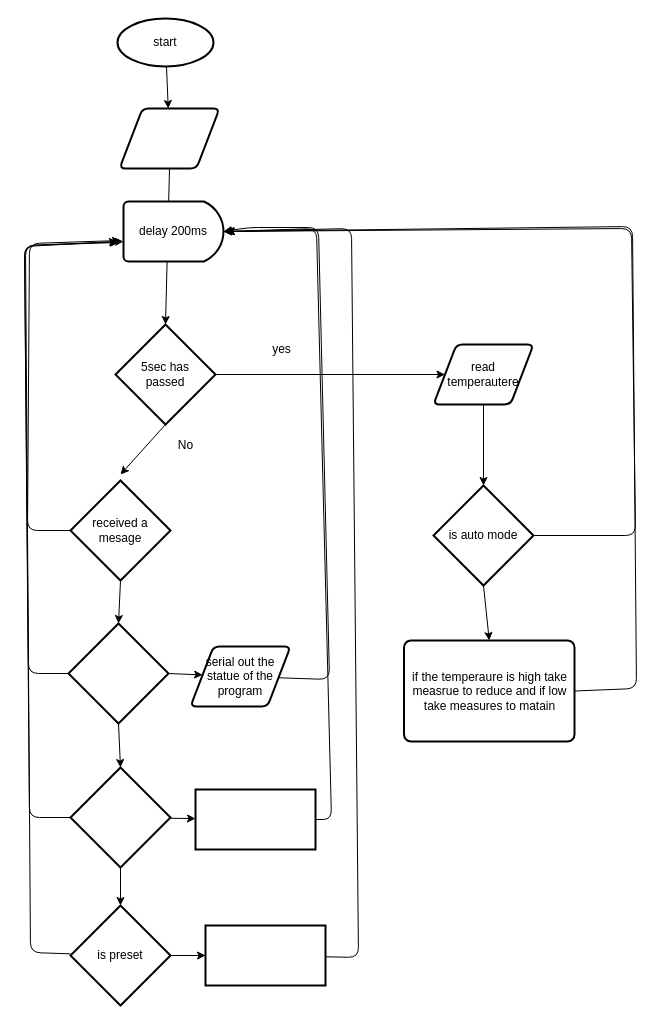
Some shapes in this 662 by 1023 pixel diagram are drawn without their labels. The box of each missing label's shape, as (x1, y1, x2, y2) in pixels:
initialisation: (118, 107, 220, 169)
is get status: (67, 622, 169, 724)
is set mode: (69, 766, 171, 868)
program the preset temperature: (204, 924, 326, 986)
set the mode the the specified mode of opertion: (194, 788, 316, 850)
